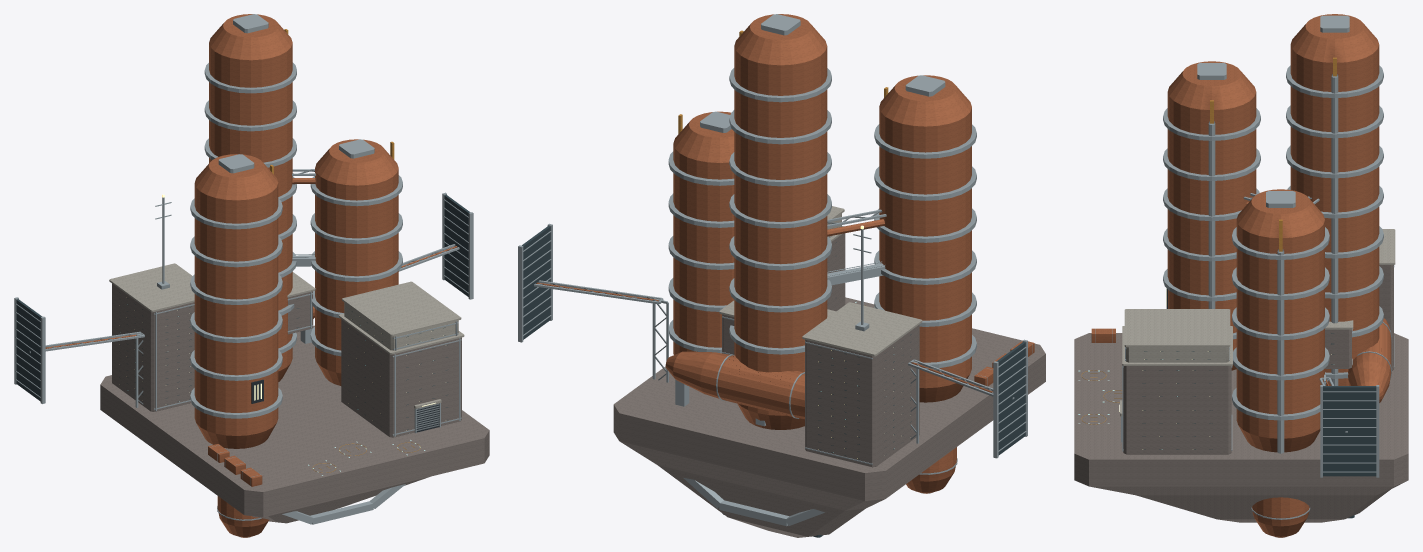
File: cinder.glb
3 views of the same model, side by side, from view 1: azimuth 30°, elevation 25°; view 2: azimuth 150°, elevation 25°; view 3: azimuth 270°, elevation 25° (orthographic). The views are drawn at different scales.
Parts seen in each view (by area): view 1: cinder / copper, cinder / hull, cinder / metal, cinder / armor, cinder / radiator, cinder / dark; view 2: cinder / copper, cinder / hull, cinder / metal, cinder / radiator, cinder / armor; view 3: cinder / copper, cinder / hull, cinder / metal, cinder / armor, cinder / radiator, cinder / ochre.
Part boxes in pixels (<box>): cinder / copper: <box>45,14,457,537</box>; cinder / hull: <box>100,283,489,523</box>; cinder / metal: <box>14,14,473,537</box>; cinder / armor: <box>109,263,464,433</box>; cinder / radiator: <box>16,194,470,401</box>; cinder / dark: <box>251,379,439,432</box>; cinder / copper: <box>536,14,1034,493</box>; cinder / hull: <box>613,233,1045,537</box>; cinder / metal: <box>518,14,1032,526</box>; cinder / radiator: <box>522,226,1025,537</box>; cinder / armor: <box>719,206,922,356</box>; cinder / copper: <box>1091,14,1391,537</box>; cinder / hull: <box>1074,265,1408,522</box>; cinder / metal: <box>1095,15,1394,537</box>; cinder / armor: <box>1120,229,1395,416</box>; cinder / radiator: <box>1323,386,1376,518</box>; cinder / ochre: <box>1081,57,1336,424</box>.
Size of the model in its own units: 159 by 163 by 101.
10 materials, 4 textured.
